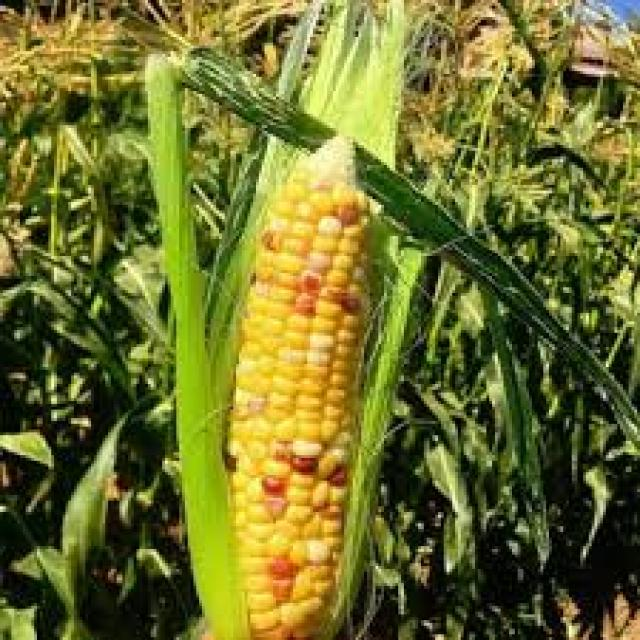purecorn: (166, 128, 433, 640)
